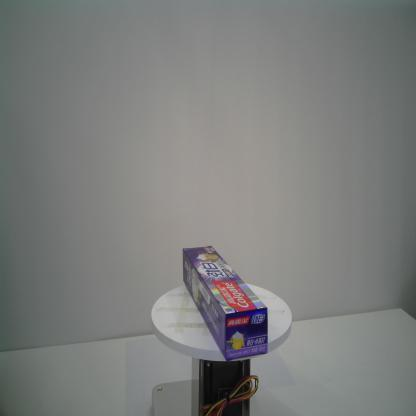Personal Hygiene: (182, 245, 269, 360)
